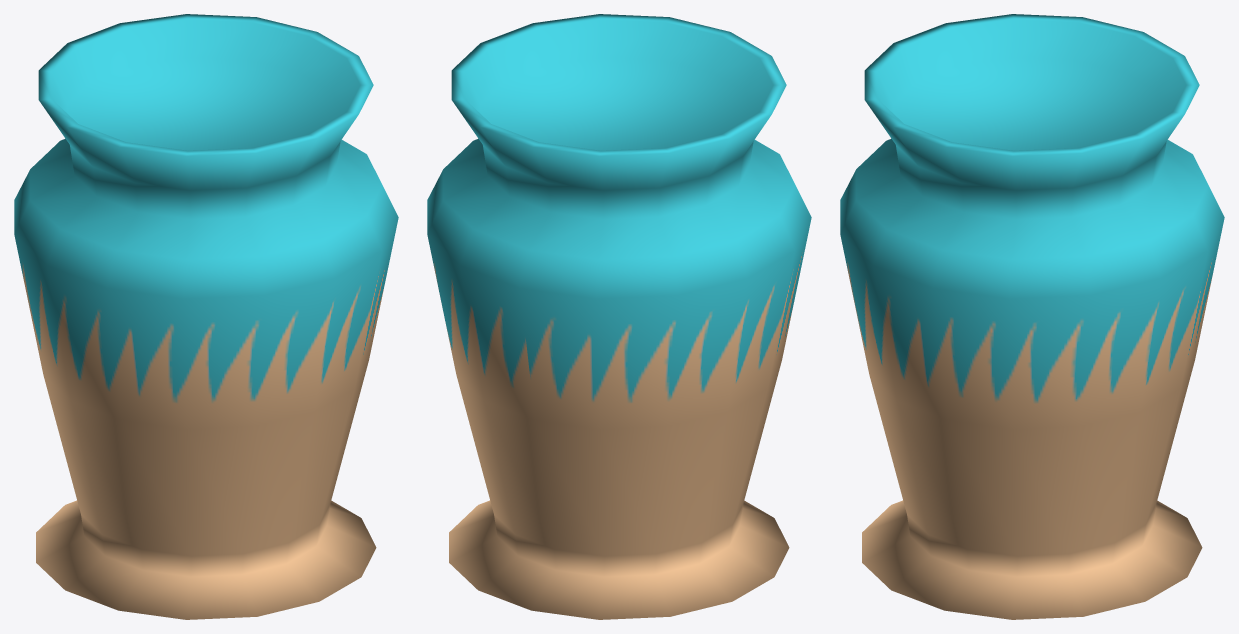
Rendered from vase.obj.
3 renders of one model, left to right at view 1: azimuth 30°, elevation 25°; view 2: azimuth 150°, elevation 25°; view 3: azimuth 270°, elevation 25°, orthographic.
Size of the model in its own units: 2.28 by 3.01 by 2.27.
